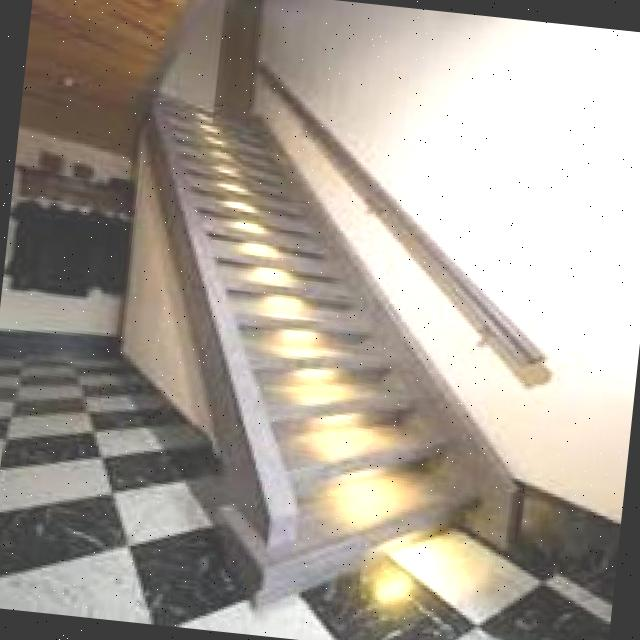stairs: (94, 85, 524, 630)
